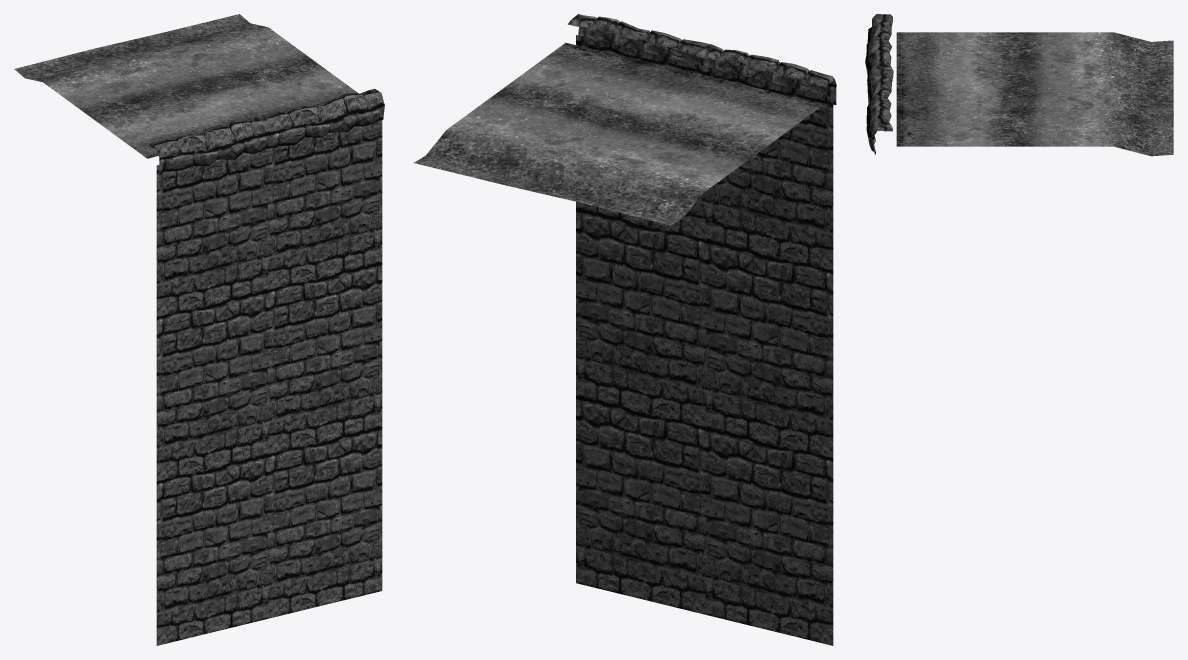
The model's file is Street_Straight.FBX.
3 views of the same model, side by side, from view 1: azimuth 30°, elevation 25°; view 2: azimuth 150°, elevation 25°; view 3: azimuth 270°, elevation 25° (orthographic). The views are drawn at different scales.
Parts seen in each view (by area): view 1: Street_Straight; view 2: Street_Straight; view 3: Street_Straight.
Part boxes in pixels (box(x1,y1,x2,y2)): Street_Straight: box(14, 14, 384, 645); Street_Straight: box(414, 14, 836, 645); Street_Straight: box(865, 14, 1173, 156).
Size of the model in its own units: 400 by 852 by 456.
